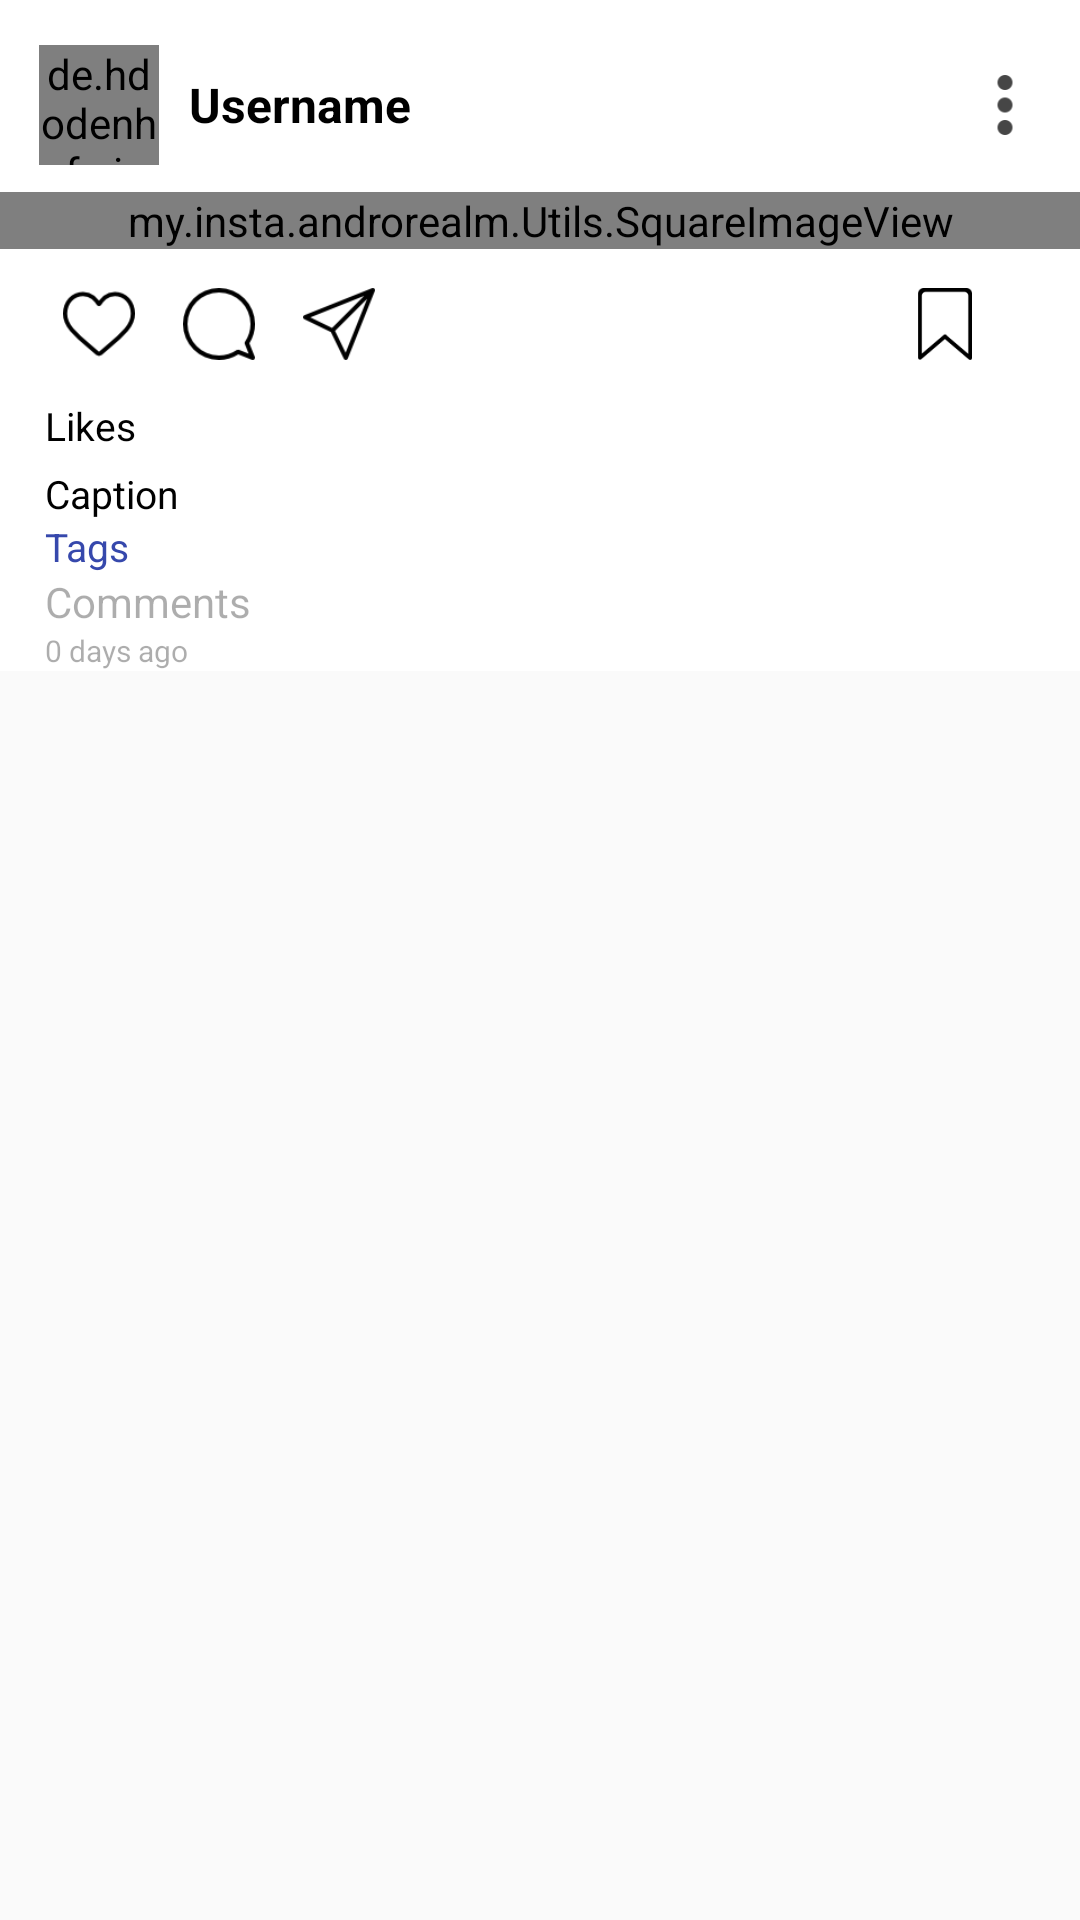

Icons on this 1080×1920 Android screen, each with the point to tap as [x,y]:
comments: [219,324]
heart: [99,324]
menu: [1005,105]
save: [945,324]
send: [339,324]
